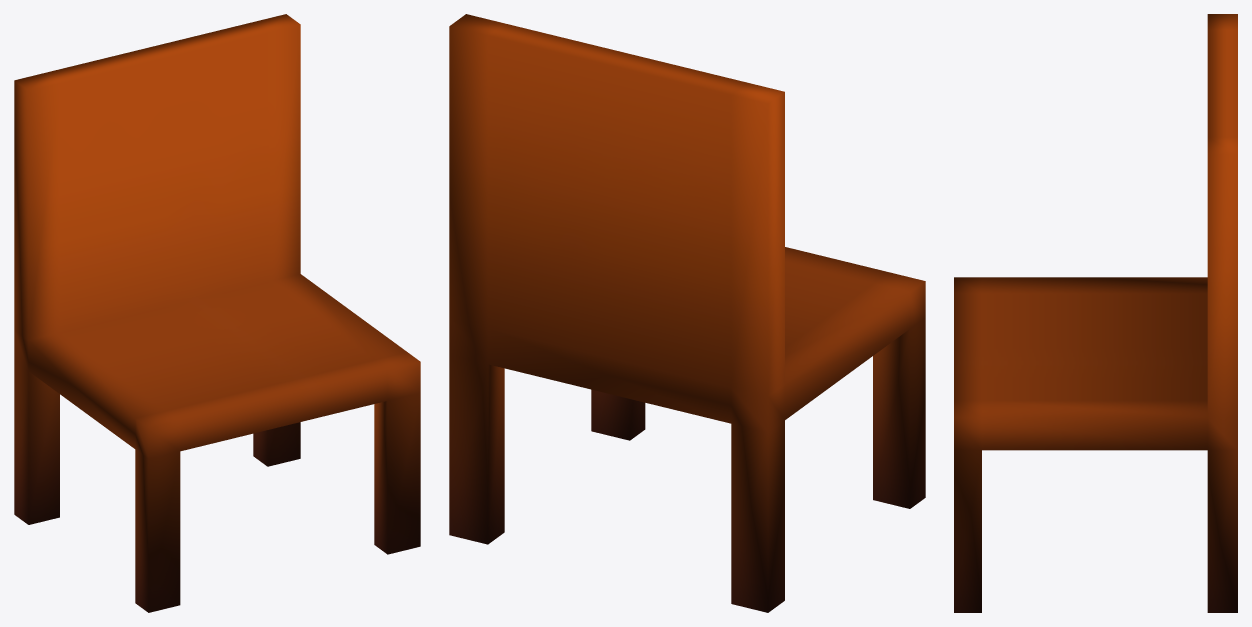
Rendered from Chair.fbx.
3 views of the same model, side by side, from view 1: azimuth 30°, elevation 25°; view 2: azimuth 150°, elevation 25°; view 3: azimuth 270°, elevation 25° (orthographic). The views are drawn at different scales.
Parts seen in each view (by area): view 1: Chair; view 2: Chair; view 3: Chair.
Boxes of the visible parts, x1,y1,x2,y2 form: Chair: (14,14,420,612); Chair: (449,14,925,612); Chair: (954,14,1237,612).
Bounding box in the file's own units: 44.34 × 67.63 × 37.93.
Materials: 1 (1 with a texture image).
